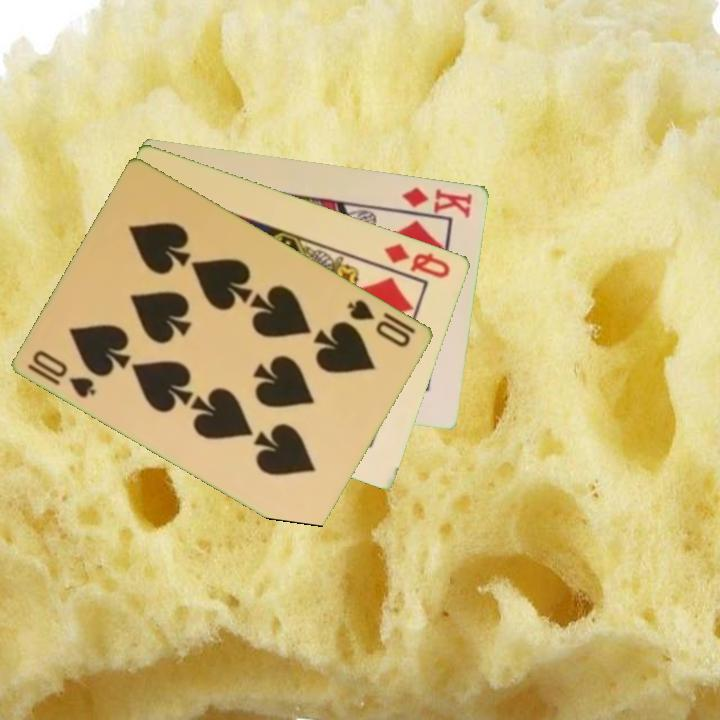10s: (24, 346, 100, 401), (344, 296, 414, 351)
Kd: (399, 183, 476, 221)
Qd: (380, 239, 454, 281)
